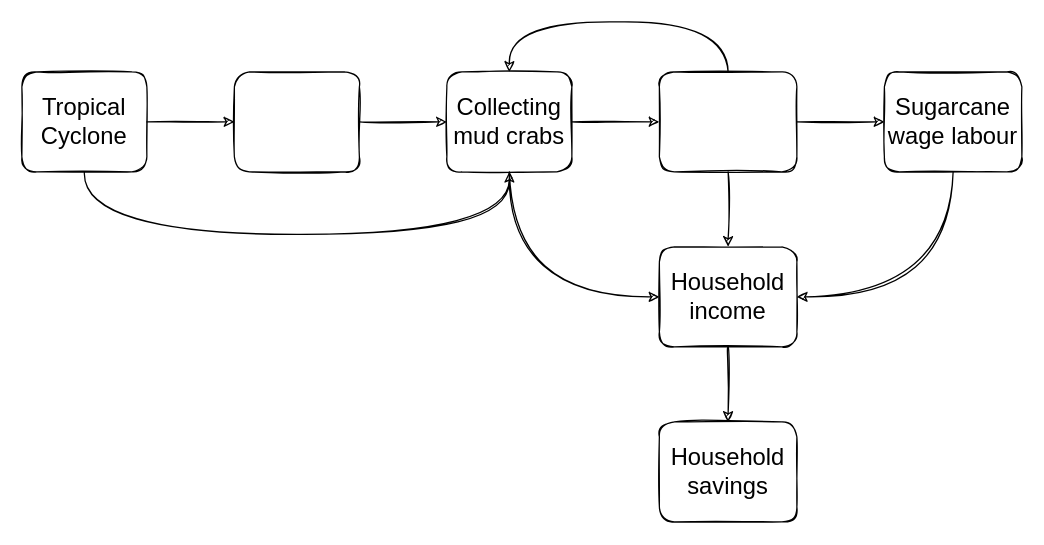
Some shapes in this 1044 by 545 pixel diagram are drawn without their labels. Each missing label, with the box of its shape:
Collect crabs in new locations: (658, 71, 797, 172)
Debris in streams: (233, 71, 359, 172)
